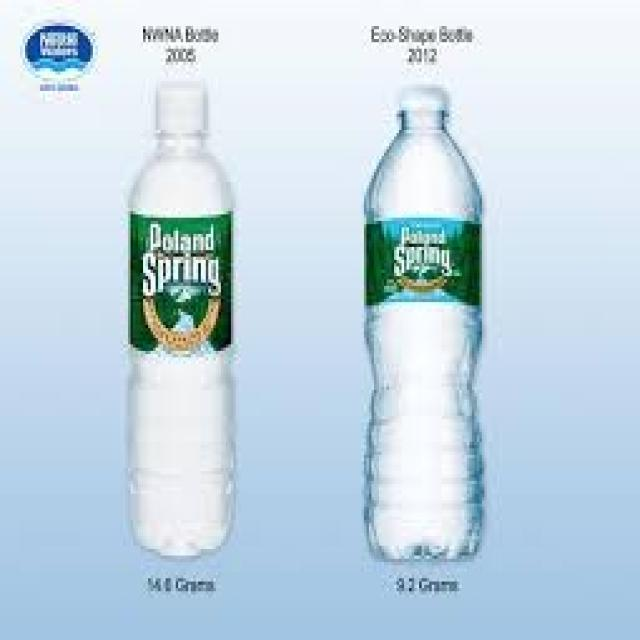plastic: (364, 84, 482, 559), (128, 84, 231, 552)
